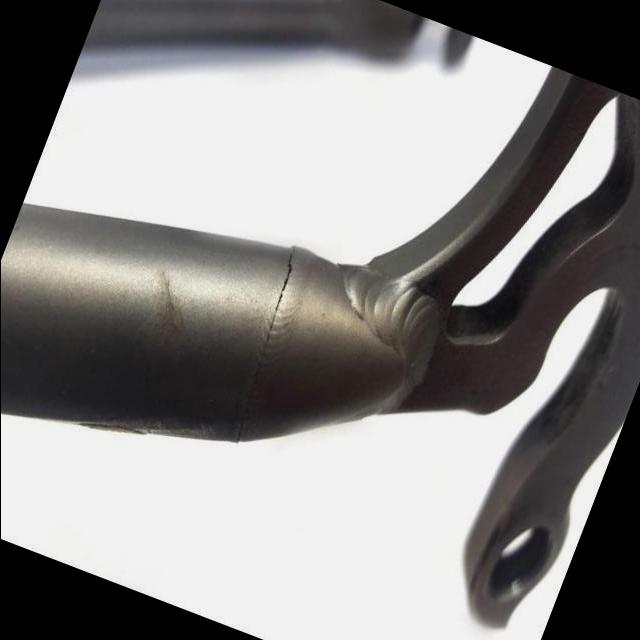defect: (234, 242, 296, 447)
